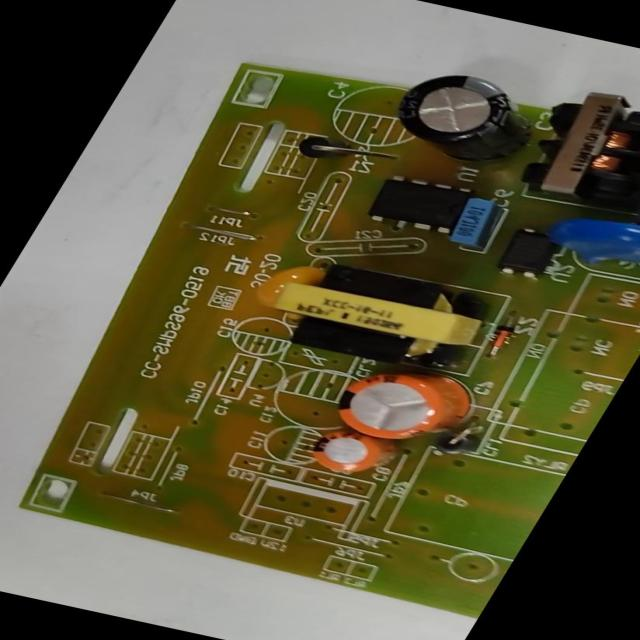Cap1: (326, 360, 484, 451)
Cap2: (300, 425, 402, 482)
Cap3: (377, 65, 540, 163)
MOSFET: (363, 172, 476, 236)
Mov: (548, 208, 640, 276)
Transformer: (252, 257, 498, 382), (510, 84, 640, 210)
